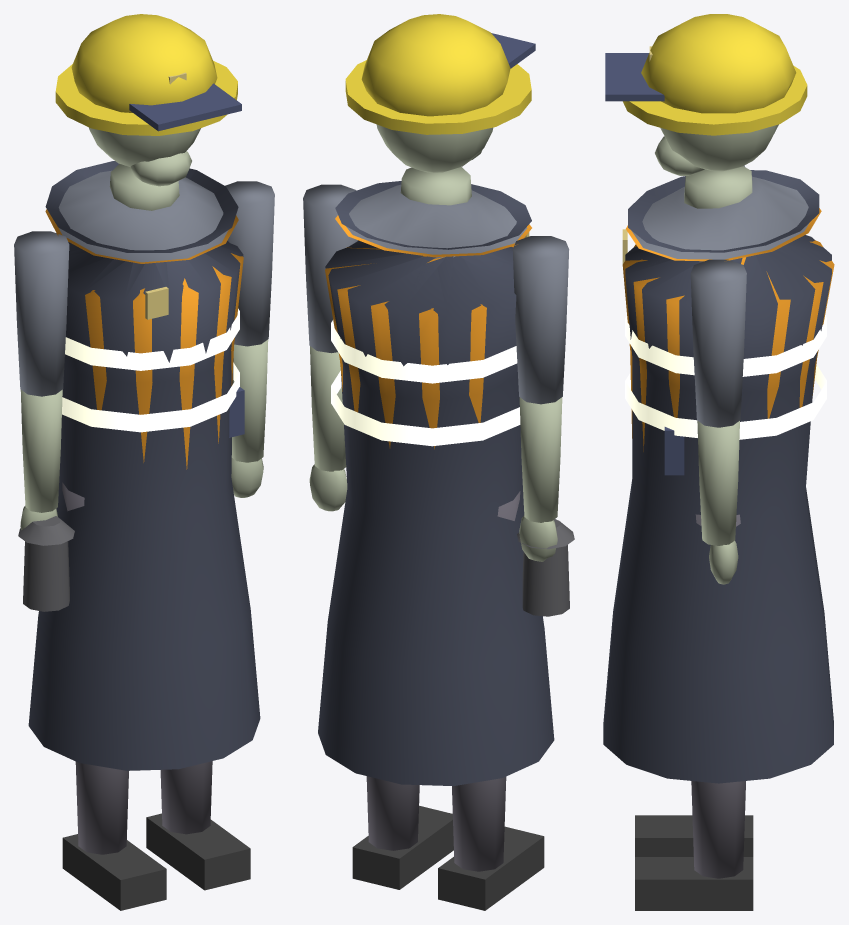
Rendered from zombie-0f266b37.glb.
The picture shows the model from 3 angles, left to right: view 1: azimuth 30°, elevation 25°; view 2: azimuth 150°, elevation 25°; view 3: azimuth 270°, elevation 25°; orthographic projection. The views are drawn at different scales.
Parts seen in each view (by area): view 1: CoatM, HatDome, TorsoM, UpperArmL, VestM, UpperArmR, FootL, FootR, ForearmL, ShinL, HatBrim, ShinR (+12 smaller); view 2: CoatM, HatDome, UpperArmL, TorsoM, VestM, HatBrim, UpperArmR, FootL, ForearmL, ShinL, FootR, VestStripe (+9 smaller); view 3: CoatM, HatDome, TorsoM, UpperArmR, FootR, VestM, ShinR, ForearmR, HatBrim, Head, VestStripe, FootL (+6 smaller).
Part boxes in pixels (x1=…): CoatM: x1=28, y1=161, x2=260, y2=770; HatDome: x1=71, y1=14, x2=217, y2=112; TorsoM: x1=58, y1=170, x2=228, y2=262; UpperArmL: x1=14, y1=231, x2=69, y2=396; VestM: x1=45, y1=209, x2=243, y2=469; UpperArmR: x1=225, y1=181, x2=274, y2=346; FootL: x1=62, y1=834, x2=166, y2=910; FootR: x1=146, y1=813, x2=250, y2=890; ForearmL: x1=20, y1=389, x2=62, y2=512; ShinL: x1=75, y1=761, x2=128, y2=854; HatBrim: x1=55, y1=60, x2=237, y2=135; ShinR: x1=160, y1=761, x2=212, y2=834; CoatM: x1=318, y1=181, x2=554, y2=785; HatDome: x1=361, y1=14, x2=510, y2=116; UpperArmL: x1=512, y1=236, x2=569, y2=404; TorsoM: x1=346, y1=184, x2=527, y2=258; VestM: x1=325, y1=215, x2=531, y2=449; HatBrim: x1=345, y1=60, x2=531, y2=134; UpperArmR: x1=303, y1=184, x2=357, y2=353; FootL: x1=438, y1=826, x2=544, y2=910; ForearmL: x1=519, y1=397, x2=562, y2=522; ShinL: x1=452, y1=777, x2=506, y2=871; FootR: x1=352, y1=805, x2=453, y2=889; VestStripe: x1=331, y1=370, x2=520, y2=446; CoatM: x1=603, y1=170, x2=833, y2=783; HatDome: x1=641, y1=14, x2=796, y2=113; TorsoM: x1=632, y1=176, x2=808, y2=259; UpperArmR: x1=690, y1=259, x2=746, y2=427; FootR: x1=635, y1=857, x2=753, y2=910; VestM: x1=622, y1=208, x2=834, y2=451; ShinR: x1=691, y1=781, x2=745, y2=878; ForearmR: x1=697, y1=420, x2=739, y2=545; HatBrim: x1=623, y1=65, x2=807, y2=135; Head: x1=660, y1=124, x2=778, y2=171; VestStripe: x1=625, y1=364, x2=826, y2=439; FootL: x1=635, y1=815, x2=753, y2=856.
Size of the model in its own units: 0.6051 by 1.92 by 0.469.
